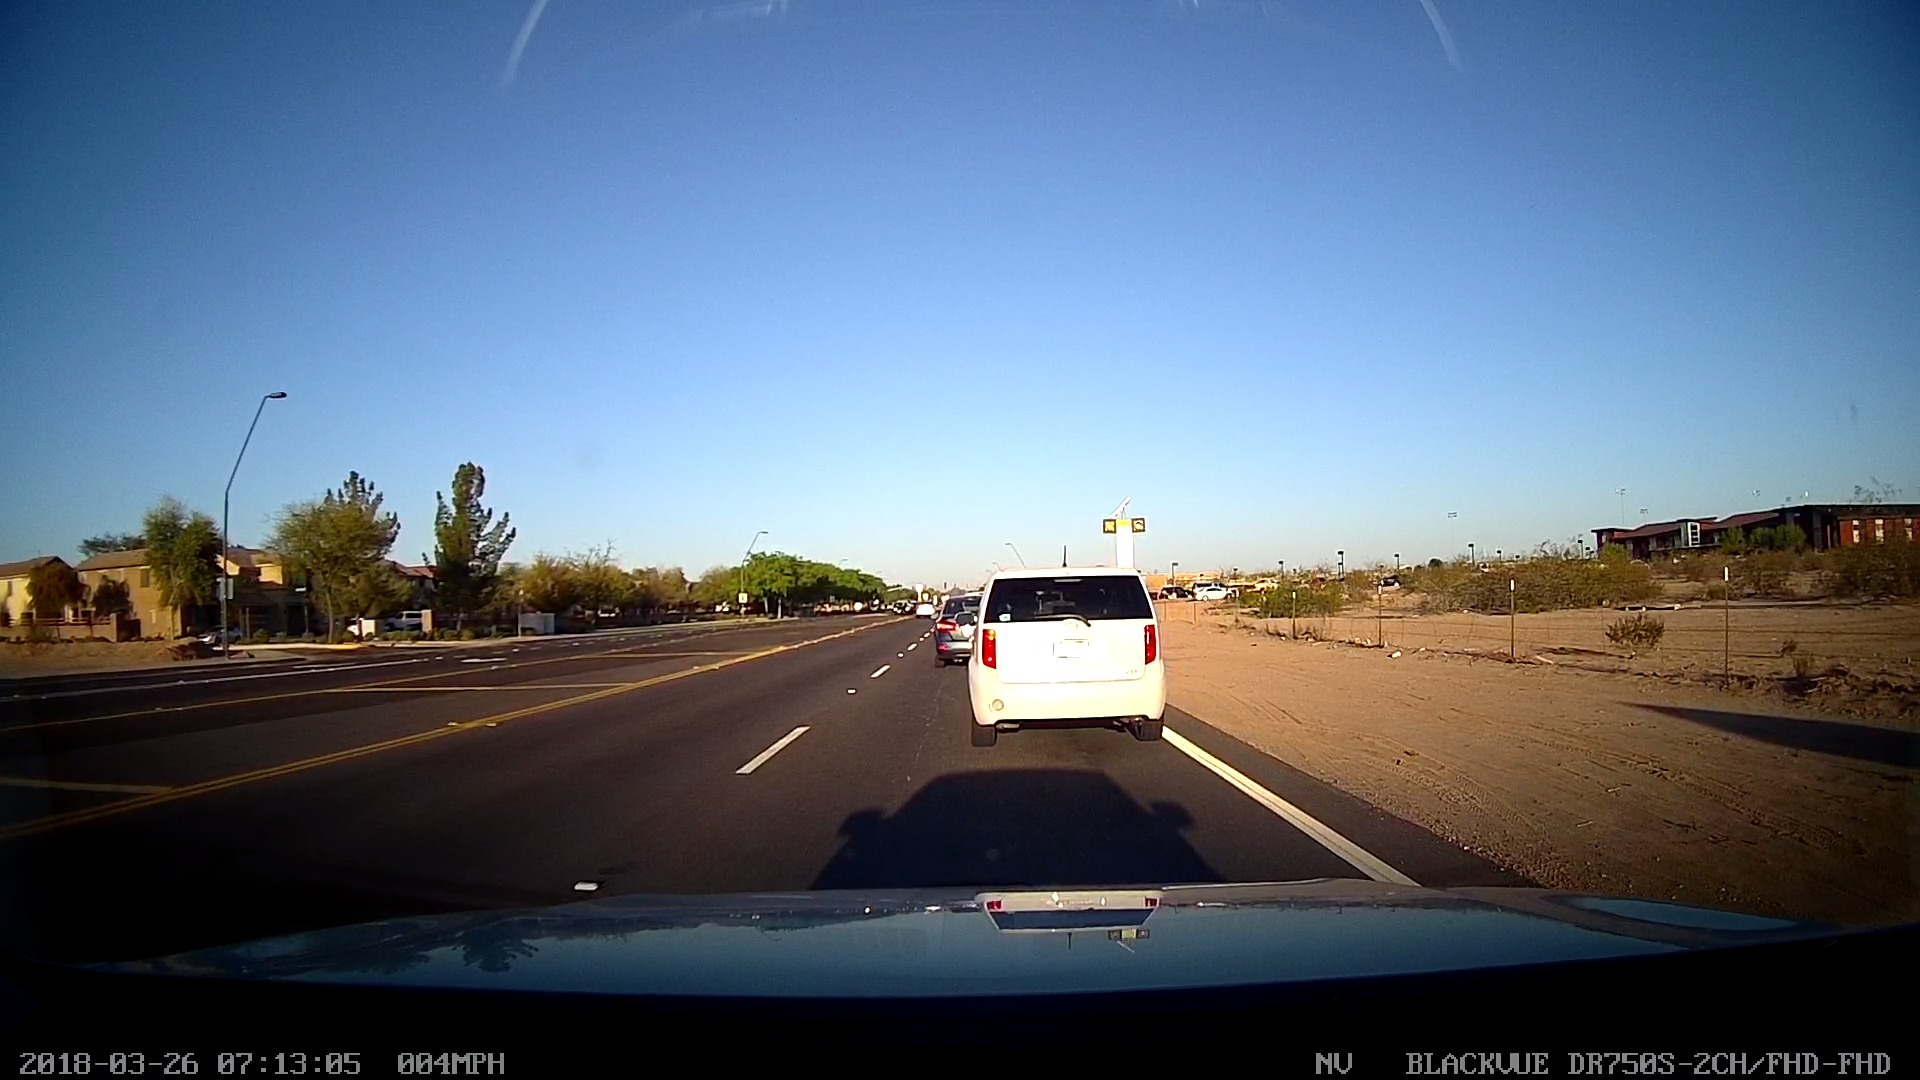plate: (1039, 629, 1106, 671)
vehicle: (961, 563, 1169, 752), (917, 585, 995, 681)
